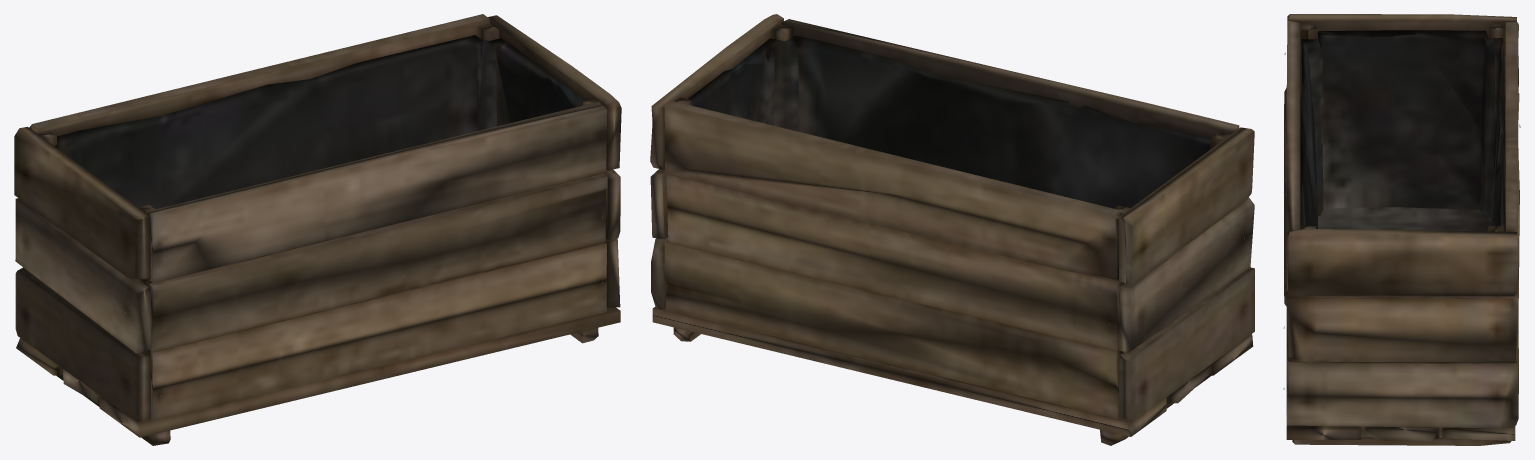
File: planter_box.glb
3 renders of one model, left to right at view 1: azimuth 30°, elevation 25°; view 2: azimuth 150°, elevation 25°; view 3: azimuth 270°, elevation 25°, orthographic. The views are drawn at different scales.
Parts seen in each view (by area): view 1: planter_box; view 2: planter_box; view 3: planter_box.
Part boxes in pixels (x1,y1,x2,y2): planter_box: (14, 14, 621, 445); planter_box: (650, 14, 1254, 445); planter_box: (1283, 14, 1520, 445).
Bounding box in the file's own units: 0.9084 × 0.425 × 0.4119.
Materials: 1 (1 with a texture image).
